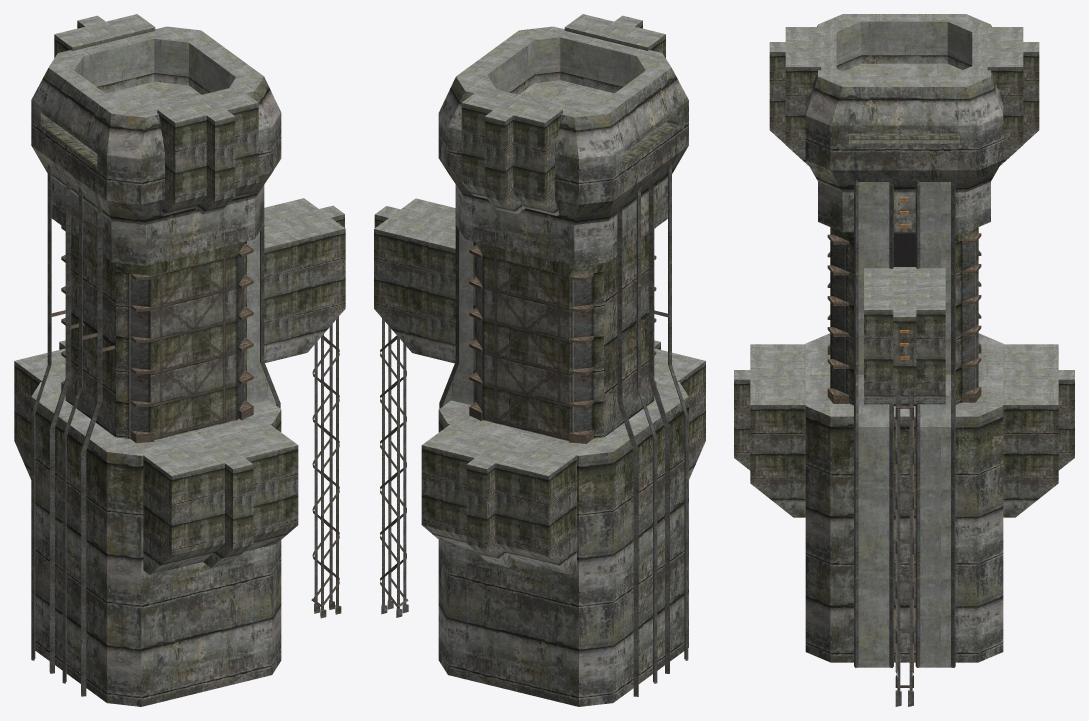
Rendered from tower.fbx.
3 views of the same model, side by side, from view 1: azimuth 30°, elevation 25°; view 2: azimuth 150°, elevation 25°; view 3: azimuth 270°, elevation 25° (orthographic). The views are drawn at different scales.
Visible parts, largest first — view 1: tower; view 2: tower; view 3: tower.
Part boxes in pixels (box(x1,y1,x2,y2)): tower: box(14, 14, 345, 706); tower: box(374, 14, 705, 706); tower: box(734, 14, 1074, 706).
Size of the model in its own units: 5200 by 10262 by 5525.
